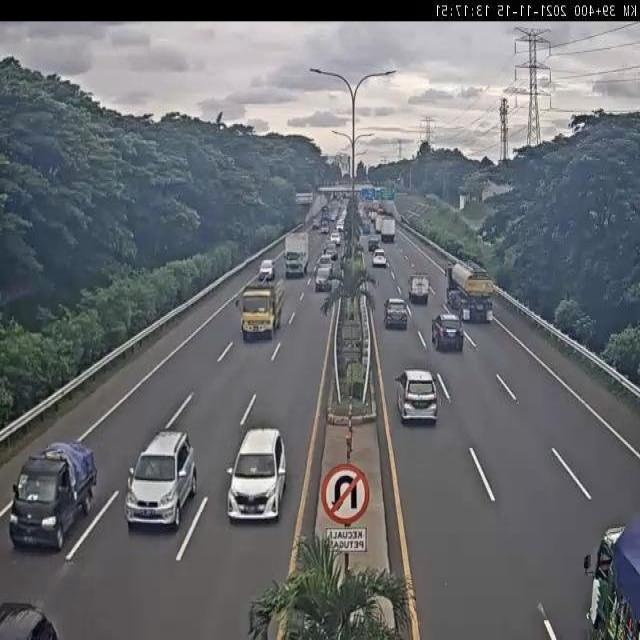Car: (20, 442, 106, 538), (128, 439, 213, 527), (221, 429, 289, 534), (395, 367, 439, 425), (431, 312, 464, 352), (383, 297, 409, 329), (311, 264, 335, 298), (258, 259, 275, 283), (372, 249, 387, 268)
Truck: (572, 522, 639, 638), (229, 279, 292, 352), (448, 262, 500, 324), (284, 232, 310, 280), (408, 274, 430, 305), (380, 216, 396, 244)
